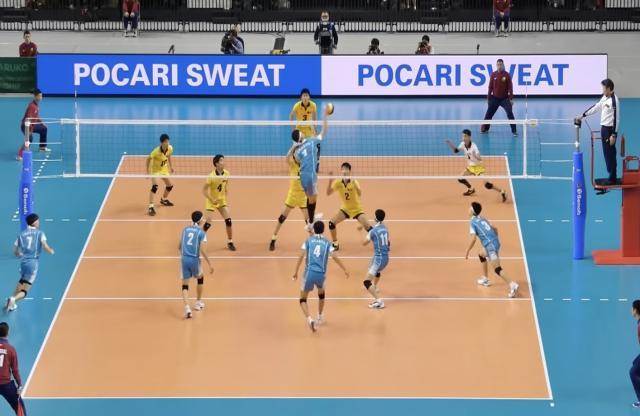spike: (288, 100, 336, 238)
